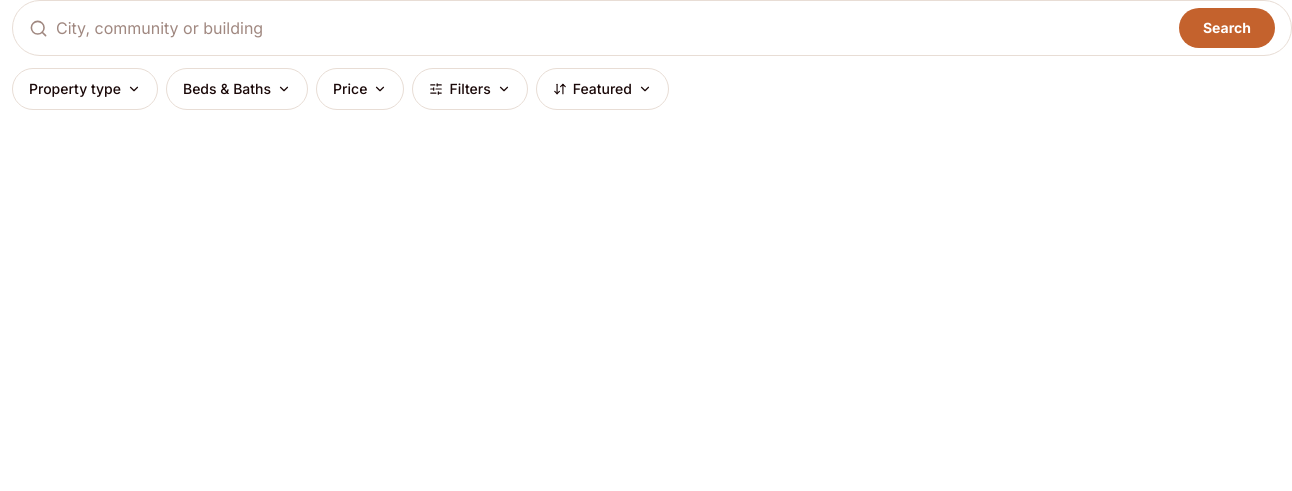
Test: filter dropdowns › offers the sort options as a radio group with Featured selected
Click the button "Featured" at coordinates (602, 89), box [536,68,669,110]
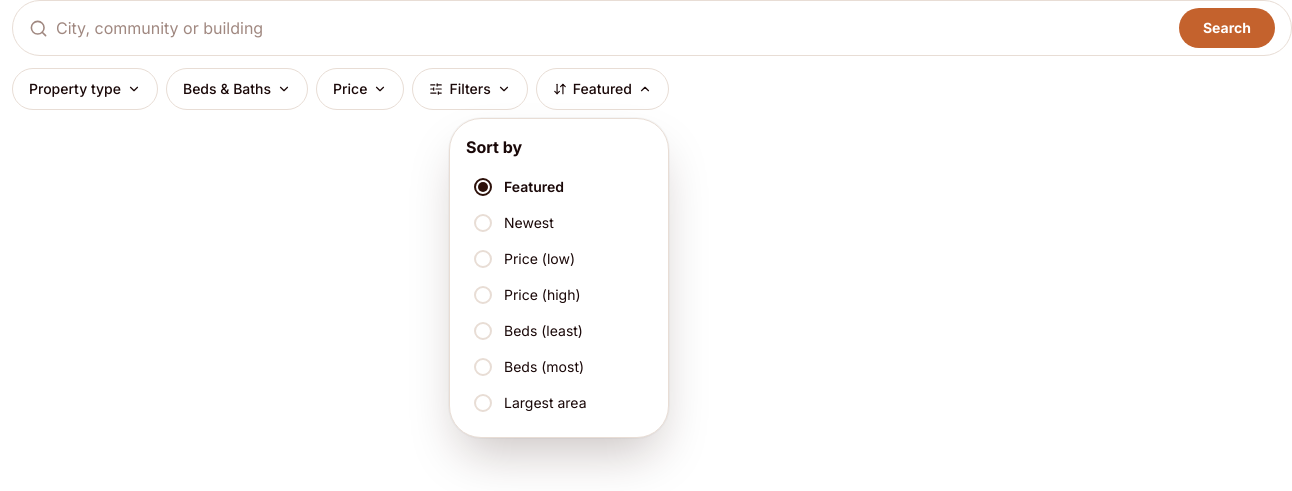
Now the element named "Sort by" is shown, box [466,169,652,421]
Click the radio button labelled "Price (low)" at coordinates (559, 259), box [466,241,652,277]
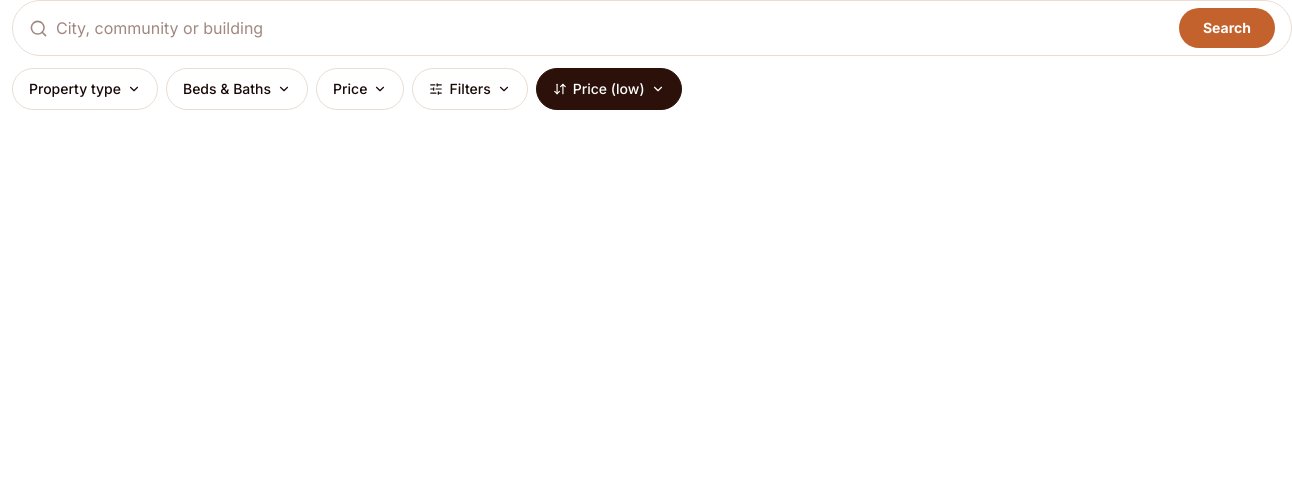
Now the button "Price (low)" is shown, box [536,68,682,110]
